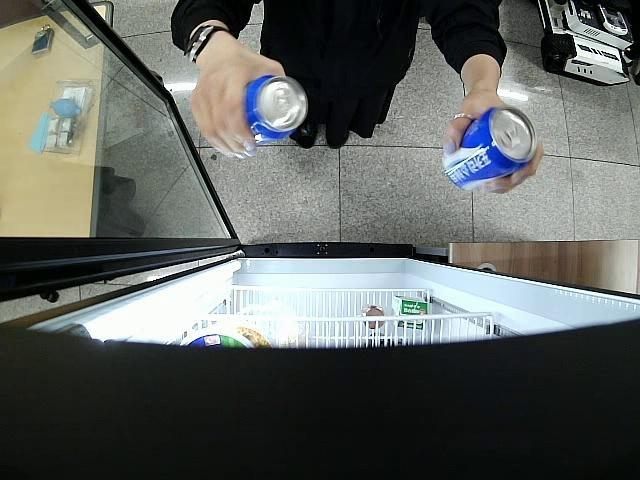13_pocariSweat: (448, 107, 536, 190), (248, 75, 309, 148)
